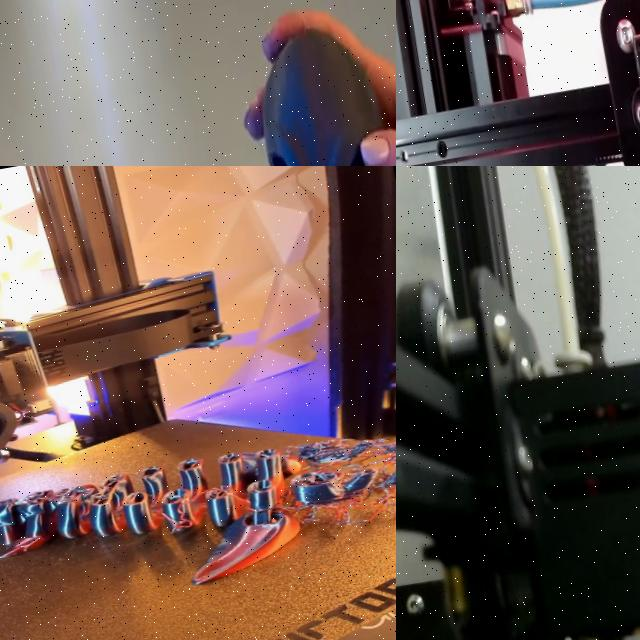spaghetti: (281, 417, 396, 548)
